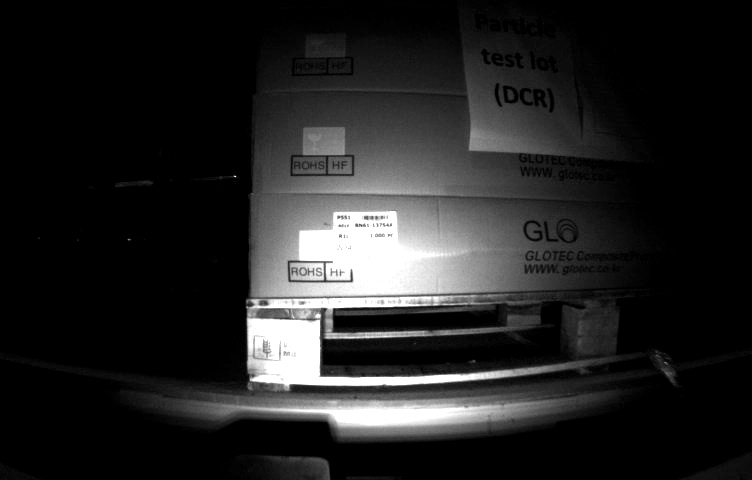True Barcode: (329, 210, 407, 265)
